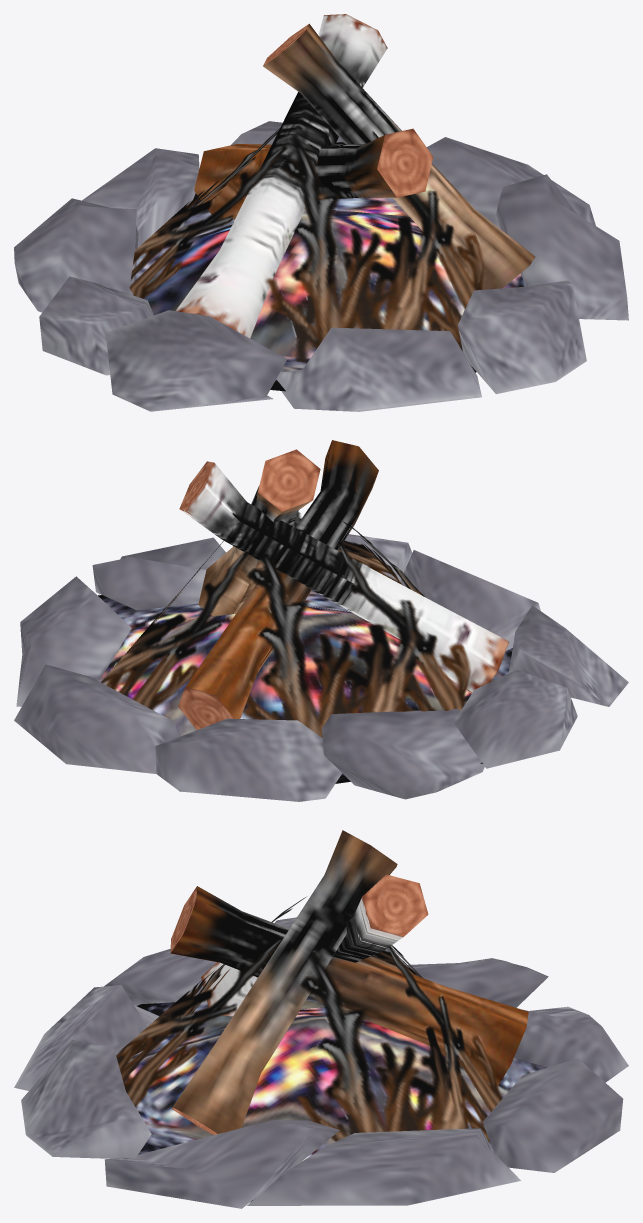
The picture shows the model from 3 angles, top to bottom: view 1: azimuth 30°, elevation 25°; view 2: azimuth 150°, elevation 25°; view 3: azimuth 270°, elevation 25°; orthographic projection. The views are drawn at different scales.
Visible parts, largest first — view 1: kindling, polySurface9, pPlane4, pCube11, pCube12, polySurface11, pCube7, pCube9, polySurface10, pCube17, pCube5, pCube16 (+2 smaller); view 2: kindling, polySurface9, pPlane4, polySurface10, pCube16, pCube17, pCube8, pCube5, pCube4, pCube9, pCube11, polySurface11 (+2 smaller); view 3: kindling, pPlane4, polySurface11, polySurface10, pCube4, pCube9, pCube8, pCube7, polySurface9, pCube12, pCube16, pCube17 (+1 smaller).
Boxes of the visible parts, bbox=[...] form: kindling: bbox=[129, 128, 484, 361]; polySurface9: bbox=[176, 14, 387, 338]; pPlane4: bbox=[135, 193, 526, 391]; pCube11: bbox=[105, 310, 287, 411]; pCube12: bbox=[276, 327, 481, 411]; polySurface11: bbox=[263, 23, 535, 289]; pCube7: bbox=[458, 280, 586, 393]; pCube9: bbox=[495, 174, 628, 320]; polySurface10: bbox=[194, 128, 433, 220]; pCube17: bbox=[14, 198, 138, 312]; pCube5: bbox=[39, 276, 153, 375]; pCube16: bbox=[82, 148, 199, 247]; kindling: bbox=[101, 512, 470, 737]; polySurface9: bbox=[179, 461, 508, 693]; pPlane4: bbox=[98, 590, 512, 783]; polySurface10: bbox=[178, 440, 378, 729]; pCube16: bbox=[155, 718, 342, 801]; pCube17: bbox=[322, 709, 484, 799]; pCube8: bbox=[14, 664, 179, 773]; pCube5: bbox=[453, 670, 577, 768]; pCube4: bbox=[16, 576, 131, 706]; pCube9: bbox=[92, 537, 225, 610]; pCube11: bbox=[508, 605, 628, 706]; polySurface11: bbox=[198, 449, 320, 615]; kindling: bbox=[116, 896, 502, 1142]; pPlane4: bbox=[125, 997, 547, 1202]; polySurface11: bbox=[172, 830, 397, 1134]; polySurface10: bbox=[170, 886, 528, 1086]; pCube4: bbox=[247, 1128, 520, 1205]; pCube9: bbox=[104, 1120, 339, 1208]; pCube8: bbox=[482, 1058, 623, 1172]; pCube7: bbox=[21, 1040, 151, 1158]; polySurface9: bbox=[201, 874, 428, 1016]; pCube12: bbox=[14, 985, 158, 1090]; pCube16: bbox=[514, 1006, 628, 1082]; pCube17: bbox=[405, 958, 548, 1007].
Bounding box in the file's own units: 193 × 96.79 × 194.
14 materials, 14 textured.
